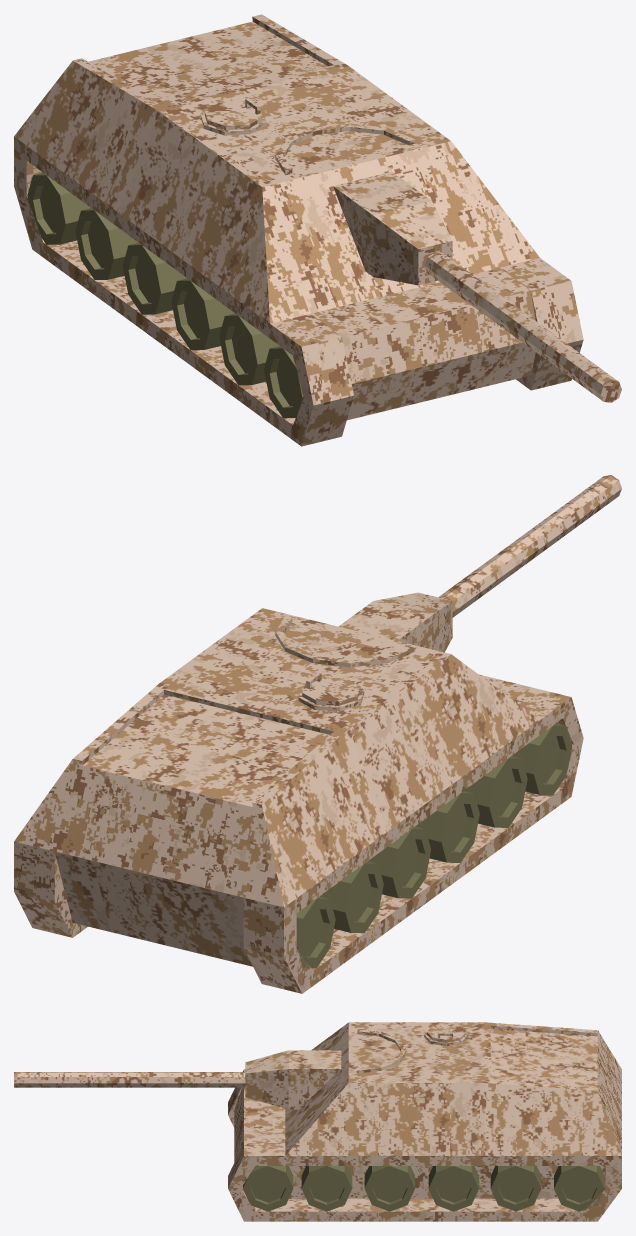
3 renders of one model, top to bottom at view 1: azimuth 30°, elevation 25°; view 2: azimuth 150°, elevation 25°; view 3: azimuth 270°, elevation 25°, orthographic. The views are drawn at different scales.
Parts seen in each view (by area): view 1: 구축; view 2: 구축; view 3: 구축.
Boxes of the visible parts, x1,y1,x2,y2 form: 구축: (14, 14, 621, 446); 구축: (14, 475, 621, 993); 구축: (14, 1022, 621, 1221).
Size of the model in its own units: 416 by 304 by 1233.
